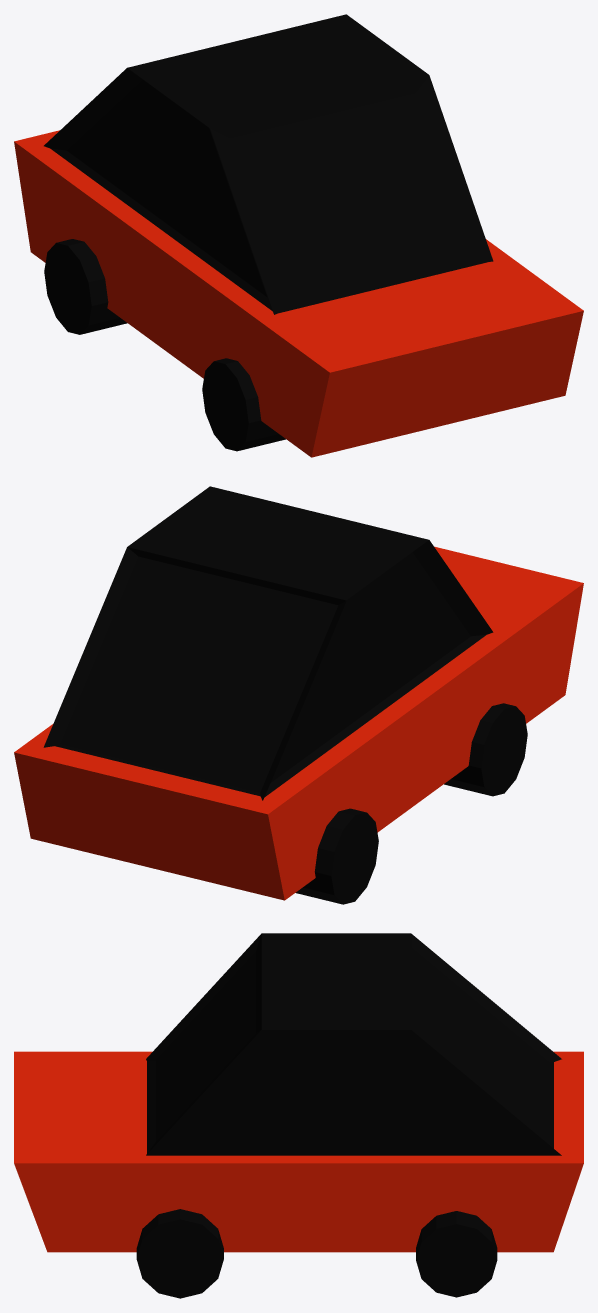
The model's file is Car.fbx.
3 views of the same model, one above another, from view 1: azimuth 30°, elevation 25°; view 2: azimuth 150°, elevation 25°; view 3: azimuth 270°, elevation 25° (orthographic). The views are drawn at different scales.
Parts seen in each view (by area): view 1: Cube, Cube.001, Cylinder.003, Cylinder.004; view 2: Cube, Cube.001, Cylinder.003, Cylinder.004; view 3: Cube, Cube.001, Cylinder.002, Cylinder.
Part boxes in pixels (<box>): Cube: <box>44,14,493,314</box>; Cube.001: <box>14,130,583,457</box>; Cylinder.003: <box>44,239,127,334</box>; Cylinder.004: <box>202,358,285,451</box>; Cube: <box>43,486,493,800</box>; Cube.001: <box>14,546,583,900</box>; Cylinder.003: <box>295,808,378,904</box>; Cylinder.004: <box>444,703,527,796</box>; Cube: <box>146,933,561,1155</box>; Cube.001: <box>14,1051,583,1252</box>; Cylinder.002: <box>136,1209,223,1298</box>; Cylinder: <box>416,1211,497,1297</box>.
Size of the model in its own units: 444 by 394 by 807.
